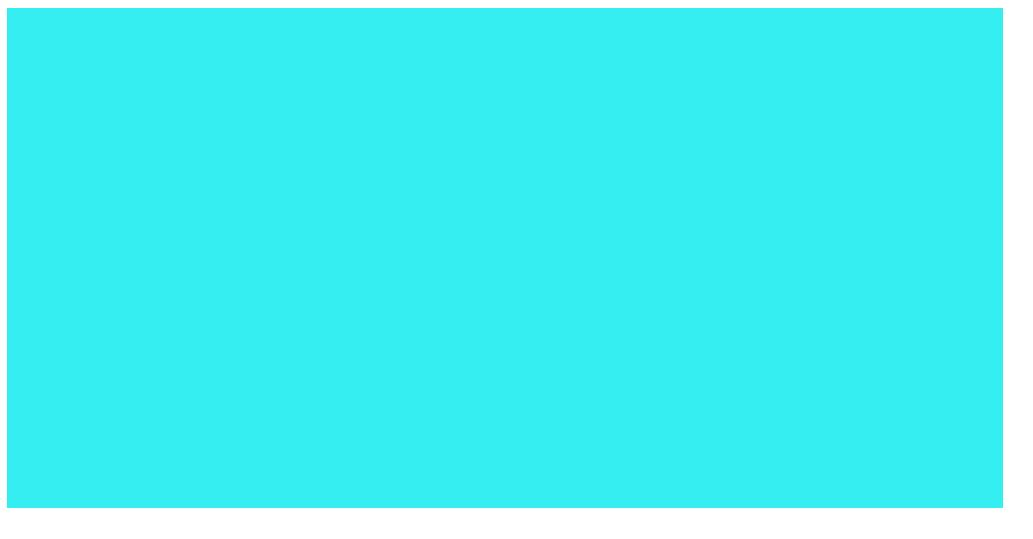cyan_zone: (5, 7, 998, 510)
